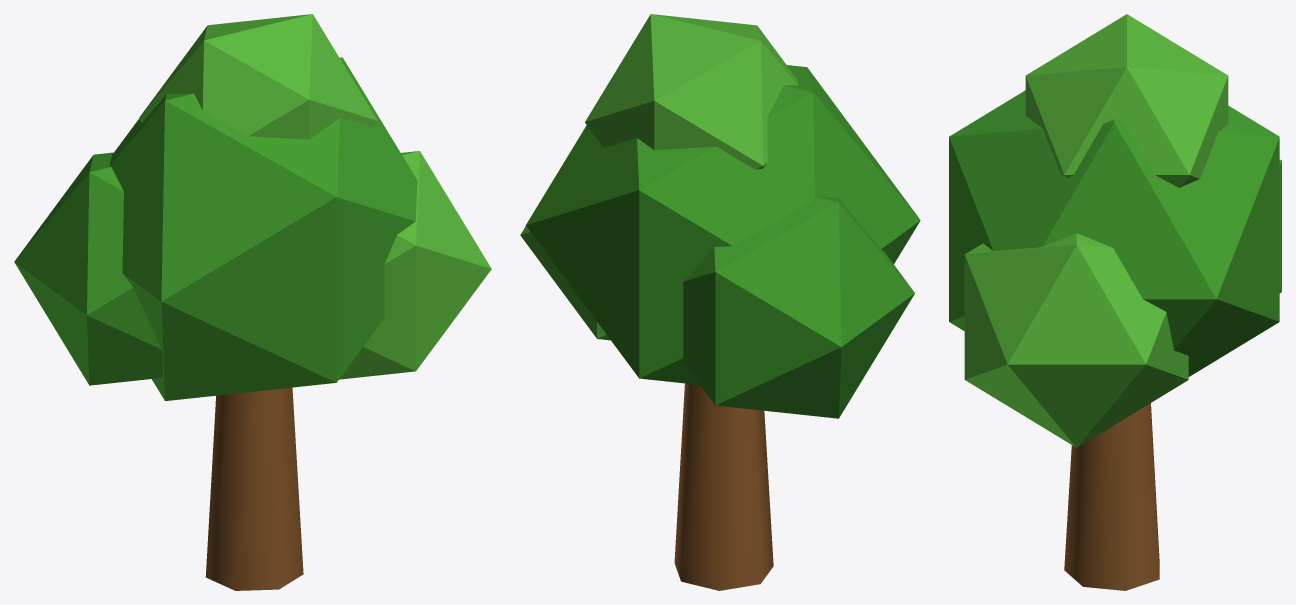
The model's file is tree.glb.
The picture shows the model from 3 angles, left to right: view 1: azimuth 30°, elevation 25°; view 2: azimuth 150°, elevation 25°; view 3: azimuth 270°, elevation 25°; orthographic projection.
Parts seen in each view (by area): view 1: leaves (×4), trunk; view 2: leaves (×4), trunk; view 3: leaves (×3), trunk.
Boxes of the visible parts, x1,y1,x2,y2 form: leaves (×4): [14, 14, 491, 400]; trunk: [205, 387, 303, 590]; leaves (×4): [520, 14, 920, 418]; trunk: [674, 383, 773, 590]; leaves (×3): [949, 14, 1279, 447]; trunk: [1064, 403, 1159, 590].
Bounding box in the file's own units: 3.33 × 4.71 × 2.65.
